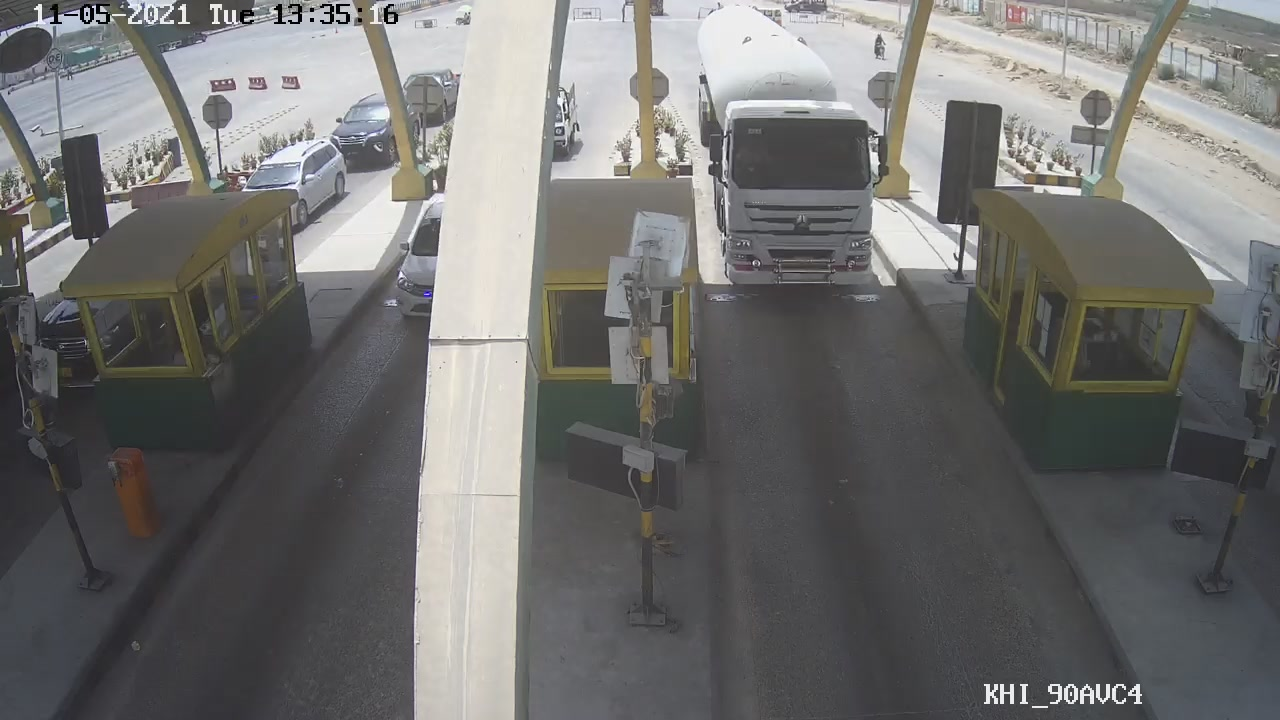F6: (690, 1, 891, 288)
